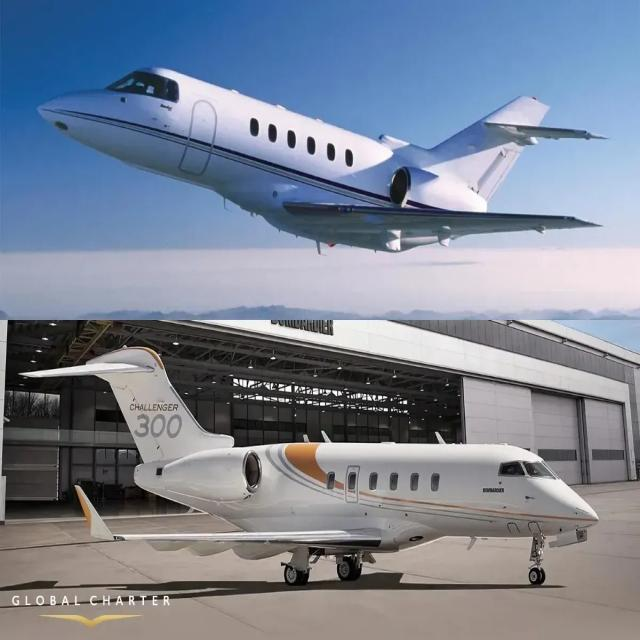jet: (0, 292, 640, 629), (5, 2, 623, 312)
